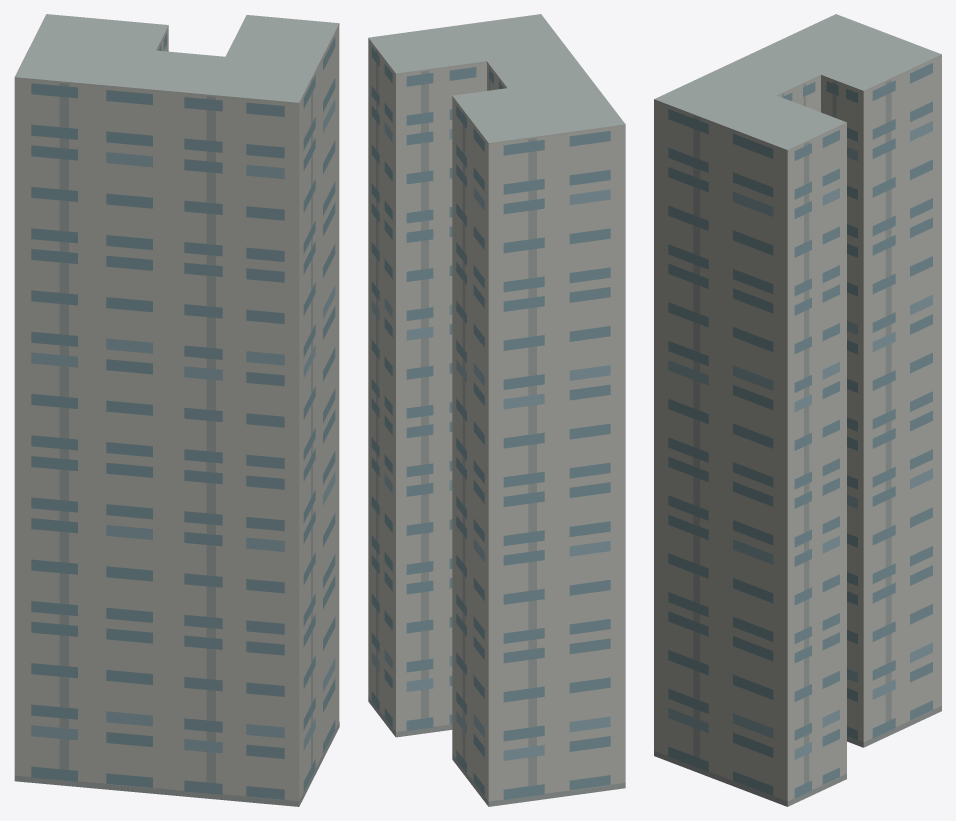
File: residential-abeced05-e2df-48b6-ab57-c9741838b3a3.glb
The picture shows the model from 3 angles, left to right: view 1: azimuth 30°, elevation 25°; view 2: azimuth 150°, elevation 25°; view 3: azimuth 270°, elevation 25°; orthographic projection. The views are drawn at different scales.
Visible parts, largest first — view 1: residential-abeced05-e2df-48b6-ab57-c9741838b3a3.tmp; view 2: residential-abeced05-e2df-48b6-ab57-c9741838b3a3.tmp; view 3: residential-abeced05-e2df-48b6-ab57-c9741838b3a3.tmp.
Part boxes in pixels (left/top/right/bottom): residential-abeced05-e2df-48b6-ab57-c9741838b3a3.tmp: left=14, top=14, right=339, bottom=806; residential-abeced05-e2df-48b6-ab57-c9741838b3a3.tmp: left=368, top=14, right=625, bottom=806; residential-abeced05-e2df-48b6-ab57-c9741838b3a3.tmp: left=654, top=14, right=941, bottom=806.
Size of the model in its own units: 43.11 by 97 by 38.51.
